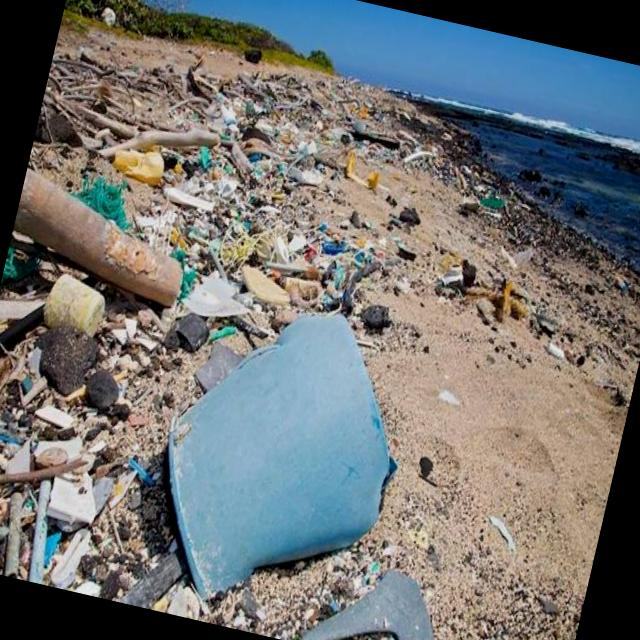garbage: (0, 25, 553, 640)
